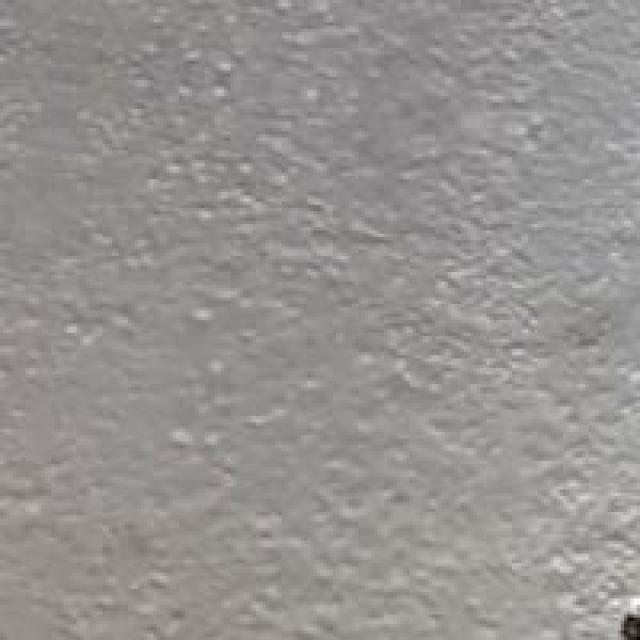Crack: (570, 512, 636, 637)
